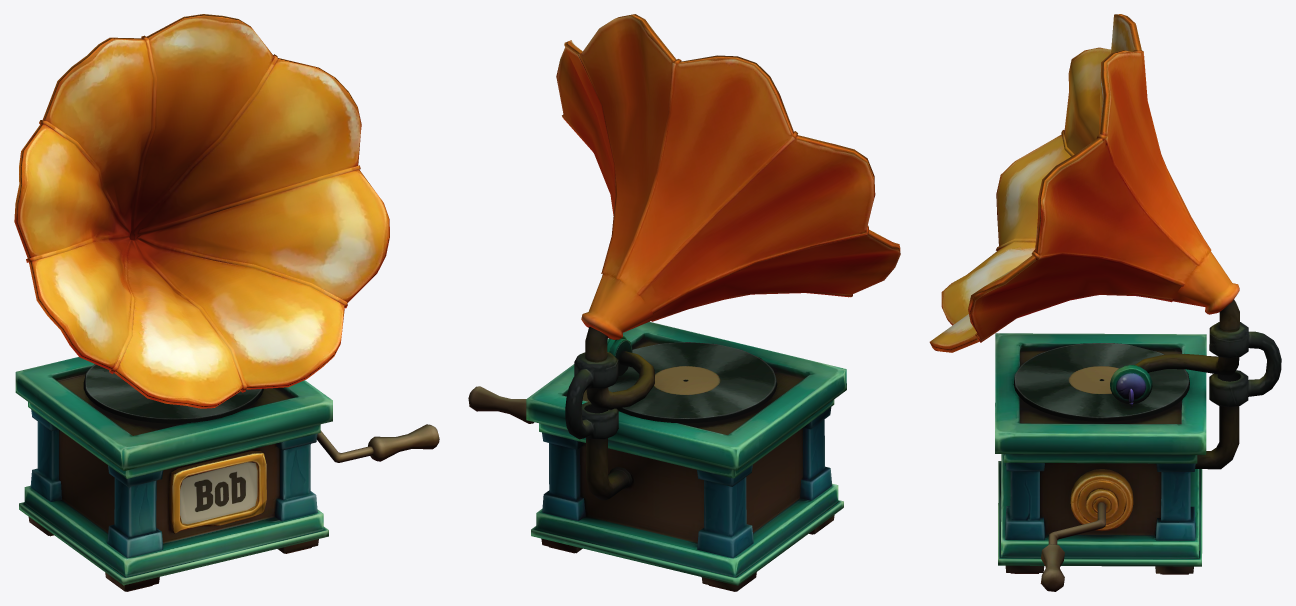
Rendered from Phonograph.glb.
3 views of the same model, side by side, from view 1: azimuth 30°, elevation 25°; view 2: azimuth 150°, elevation 25°; view 3: azimuth 270°, elevation 25° (orthographic). The views are drawn at different scales.
Visible parts, largest first — view 1: 3d66-Editable_Poly-21922200-001; view 2: 3d66-Editable_Poly-21922200-001; view 3: 3d66-Editable_Poly-21922200-001.
Part boxes in pixels (box(x1,y1,x2,y2)): 3d66-Editable_Poly-21922200-001: box(14, 14, 439, 591); 3d66-Editable_Poly-21922200-001: box(468, 14, 900, 591); 3d66-Editable_Poly-21922200-001: box(929, 14, 1281, 591).
Bounding box in the file's own units: 0.8347 × 0.9867 × 0.6362.
Materials: 2 (2 with a texture image).
